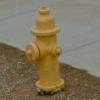Hydrant: (17, 7, 73, 100)
